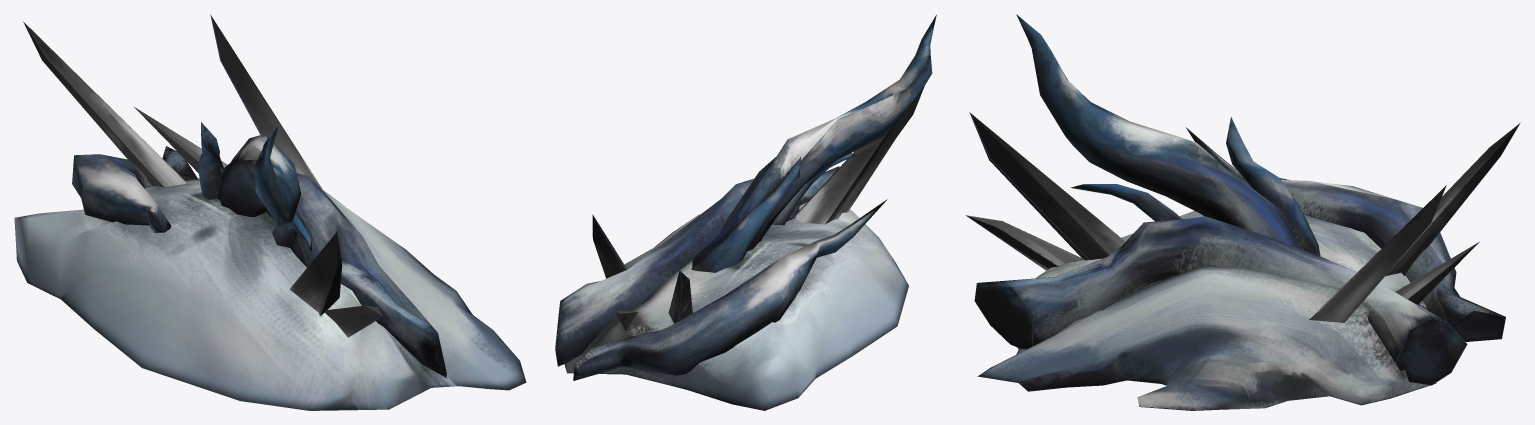
The model's file is Trap_106_smtree.fbx.
3 renders of one model, left to right at view 1: azimuth 30°, elevation 25°; view 2: azimuth 150°, elevation 25°; view 3: azimuth 270°, elevation 25°, orthographic. The views are drawn at different scales.
Parts seen in each view (by area): view 1: Trap_106_smtree; view 2: Trap_106_smtree; view 3: Trap_106_smtree.
Part boxes in pixels (box(x1,y1,x2,y2)): Trap_106_smtree: box(14, 14, 526, 410); Trap_106_smtree: box(555, 15, 936, 410); Trap_106_smtree: box(966, 14, 1520, 410).
Bounding box in the file's own units: 0.6423 × 0.6571 × 1.16.
1 material, 1 textured.
